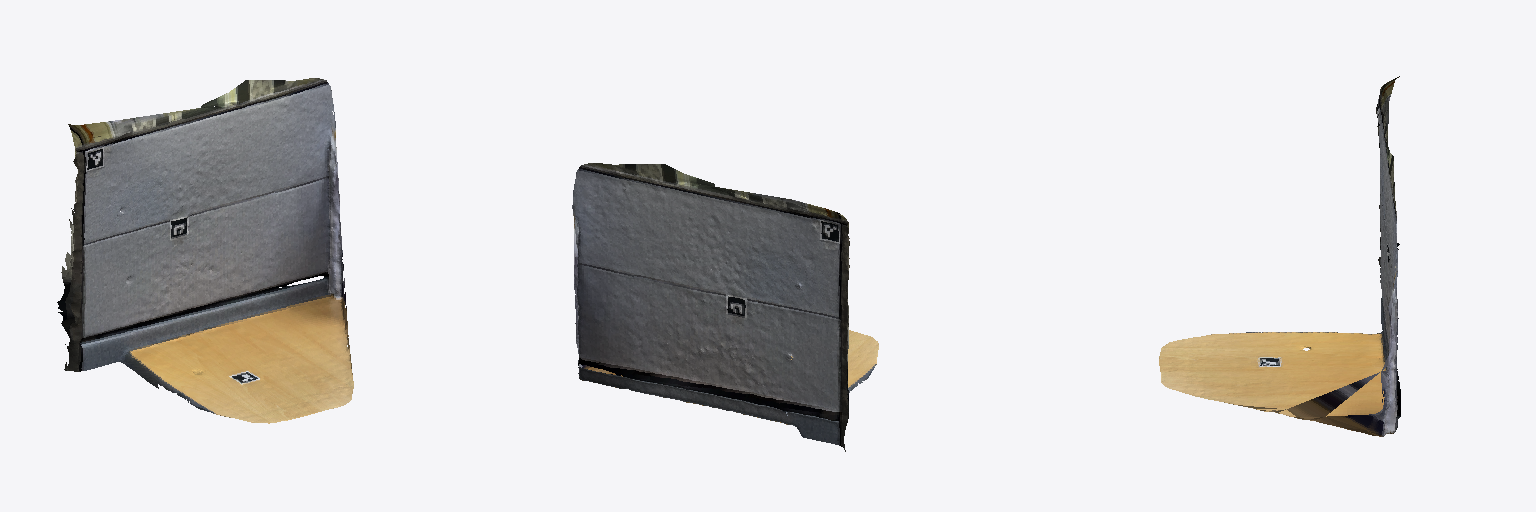
3 renders of one model, left to right at view 1: azimuth 30°, elevation 25°; view 2: azimuth 150°, elevation 25°; view 3: azimuth 270°, elevation 25°, orthographic.
Visible parts, largest first — view 1: mesh; view 2: mesh; view 3: mesh.
Part boxes in pixels (left/top/right/bottom): mesh: left=57, top=78, right=353, bottom=423; mesh: left=572, top=163, right=878, bottom=451; mesh: left=1159, top=76, right=1400, bottom=436.
Bounding box in the file's own units: 0.6217 × 0.5246 × 0.4694.
1 materials, 1 textured.